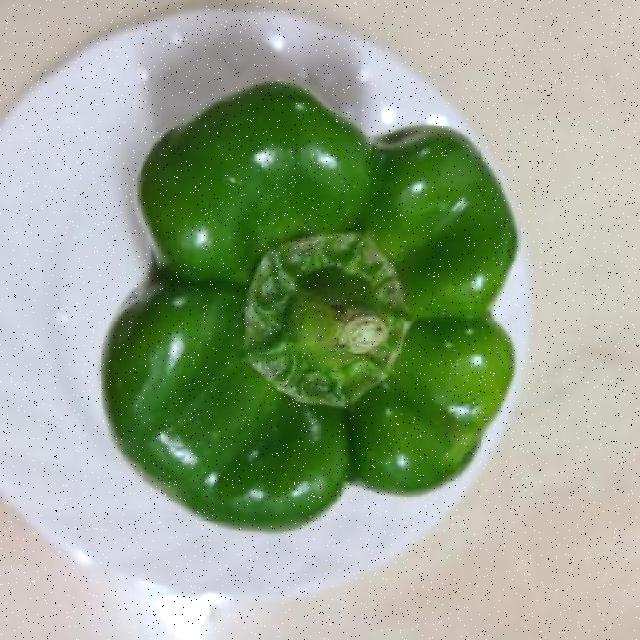Bell Pepper: (70, 46, 539, 562)
